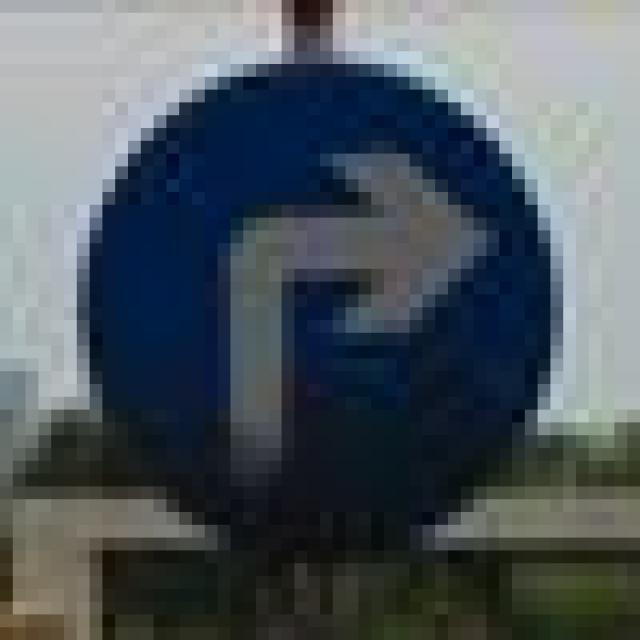TURN_RIGHT: (64, 51, 550, 525)
